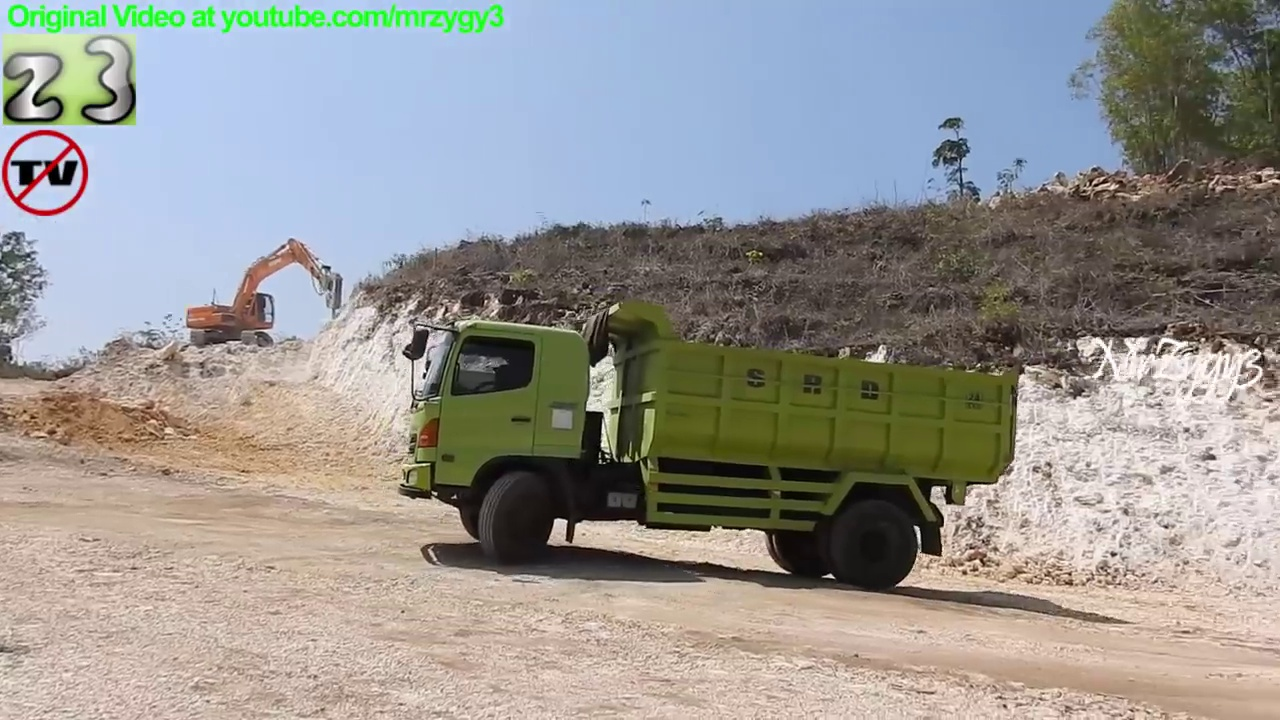excavator breaker: (179, 233, 348, 352)
truck: (391, 295, 1027, 599)
